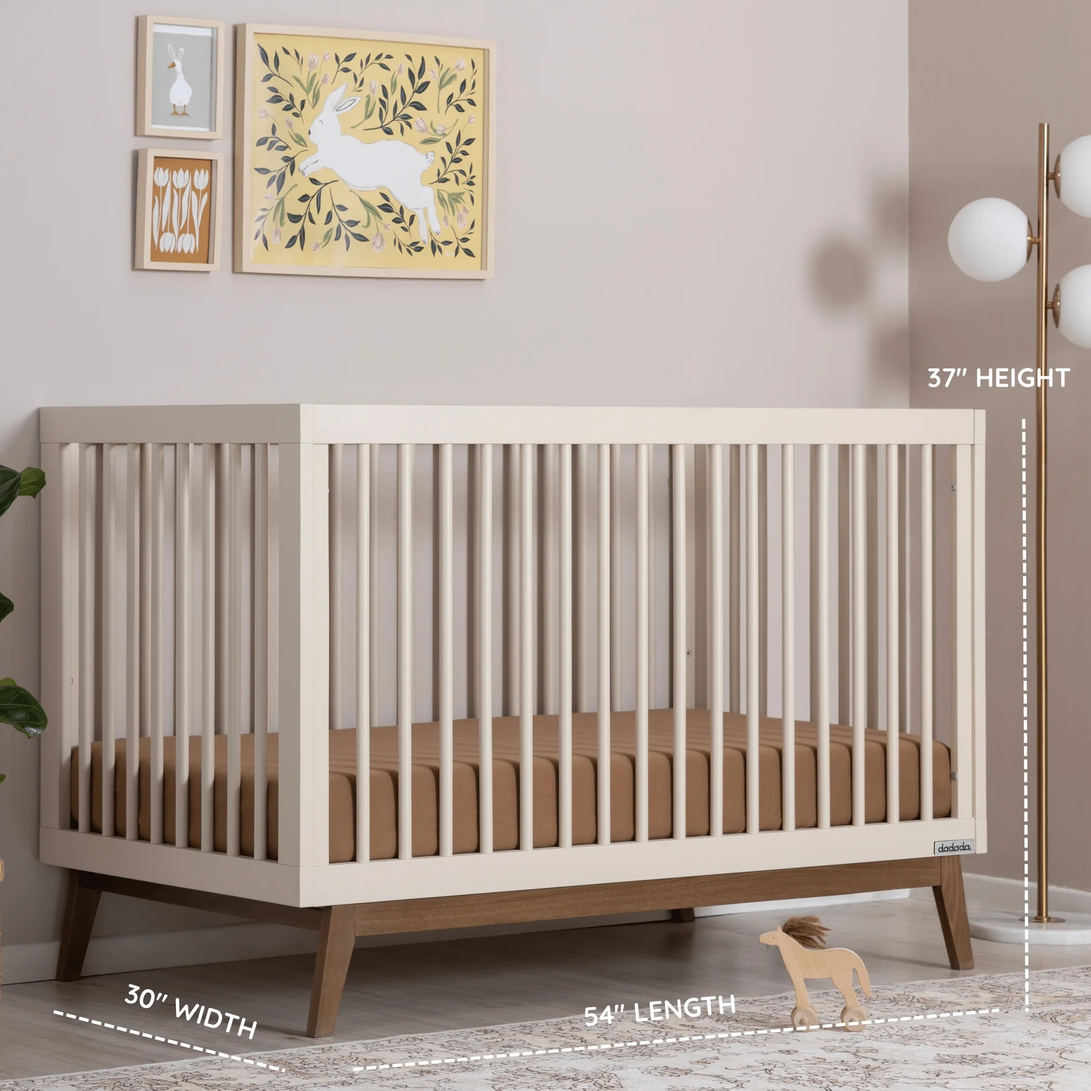crib: (40, 406, 985, 1034)
